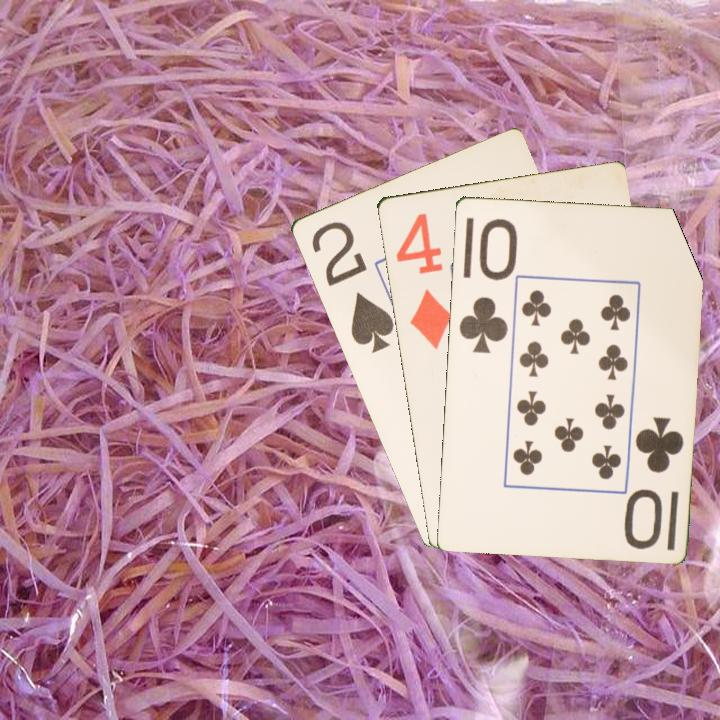10c: (455, 215, 516, 356), (625, 413, 686, 552)
2s: (307, 217, 397, 356)
4d: (392, 209, 455, 352)
